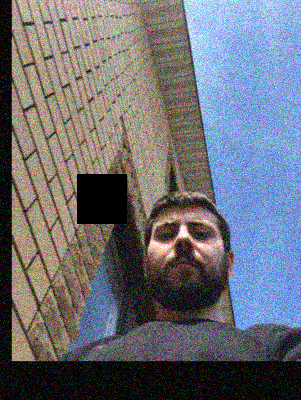without_mask: (147, 217, 222, 310)
